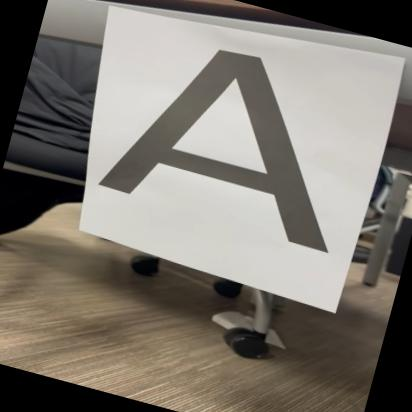seat: (78, 15, 390, 260)
